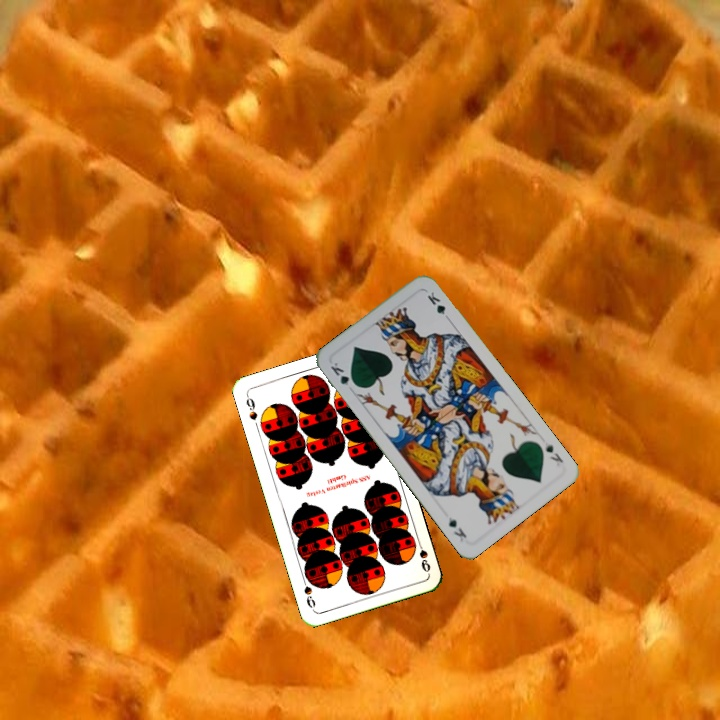GK: (326, 358, 360, 390), (541, 438, 566, 465)
S9: (413, 536, 433, 575), (242, 391, 260, 423)
